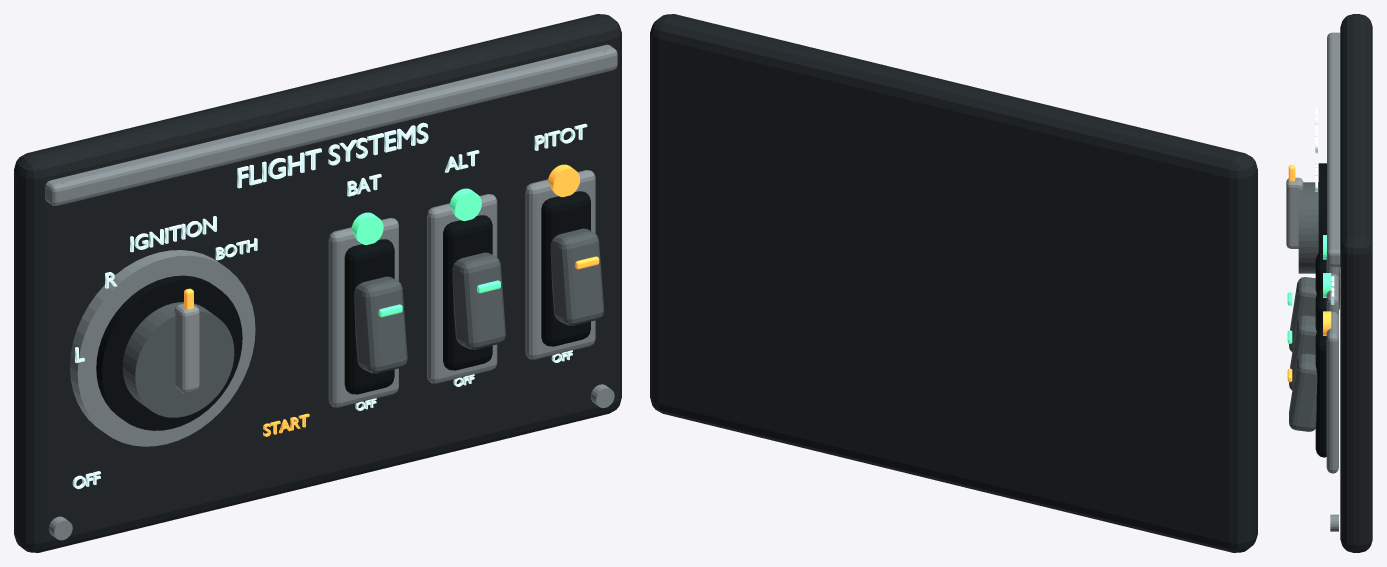
The model's file is flight_systems_console.glb.
3 renders of one model, left to right at view 1: azimuth 30°, elevation 25°; view 2: azimuth 150°, elevation 25°; view 3: azimuth 270°, elevation 25°, orthographic. The views are drawn at different scales.
Parts seen in each view (by area): view 1: Console_Backplate, Console_TopRail, Ignition_Bezel, Ignition_Knob, Ignition_Gate, Battery_Guard, Pitot_Guard, Pitot_Rocker, Battery_Rocker, Alternator_Rocker, Alternator_Guard, Battery_Gate (+8 smaller); view 2: Console_Backplate; view 3: Console_Backplate, Console_TopRail, Pitot_Guard, Pitot_Rocker, Ignition_Knob, Pitot_Gate, Battery_Rocker, Alternator_Rocker, Ignition_Key, Ignition_Gate, Battery_Gate, Alternator_Gate (+5 smaller).
Part boxes in pixels (x1,y1,x2,y2): Console_Backplate: (14,14,621,552); Console_TopRail: (45,44,617,205); Ignition_Bezel: (70,250,255,446); Ignition_Knob: (122,302,234,417); Ignition_Gate: (96,275,242,430); Battery_Guard: (328,218,398,407); Pitot_Guard: (525,170,595,359); Pitot_Rocker: (550,228,603,325); Battery_Rocker: (354,276,407,373); Alternator_Rocker: (452,252,505,349); Alternator_Guard: (427,194,497,383); Battery_Gate: (344,239,394,394); Console_Backplate: (650,14,1257,552); Console_Backplate: (1340,14,1372,552); Console_TopRail: (1327,32,1340,266); Pitot_Guard: (1326,311,1338,473); Pitot_Rocker: (1289,353,1317,431); Ignition_Knob: (1298,182,1318,273); Pitot_Gate: (1315,328,1326,457); Battery_Rocker: (1289,277,1316,351); Alternator_Rocker: (1289,315,1316,390); Ignition_Key: (1286,177,1303,248); Ignition_Gate: (1318,163,1326,253); Battery_Gate: (1315,251,1326,293); Alternator_Gate: (1315,290,1326,331).
Size of the model in its own units: 5.8 by 3.65 by 0.91.
